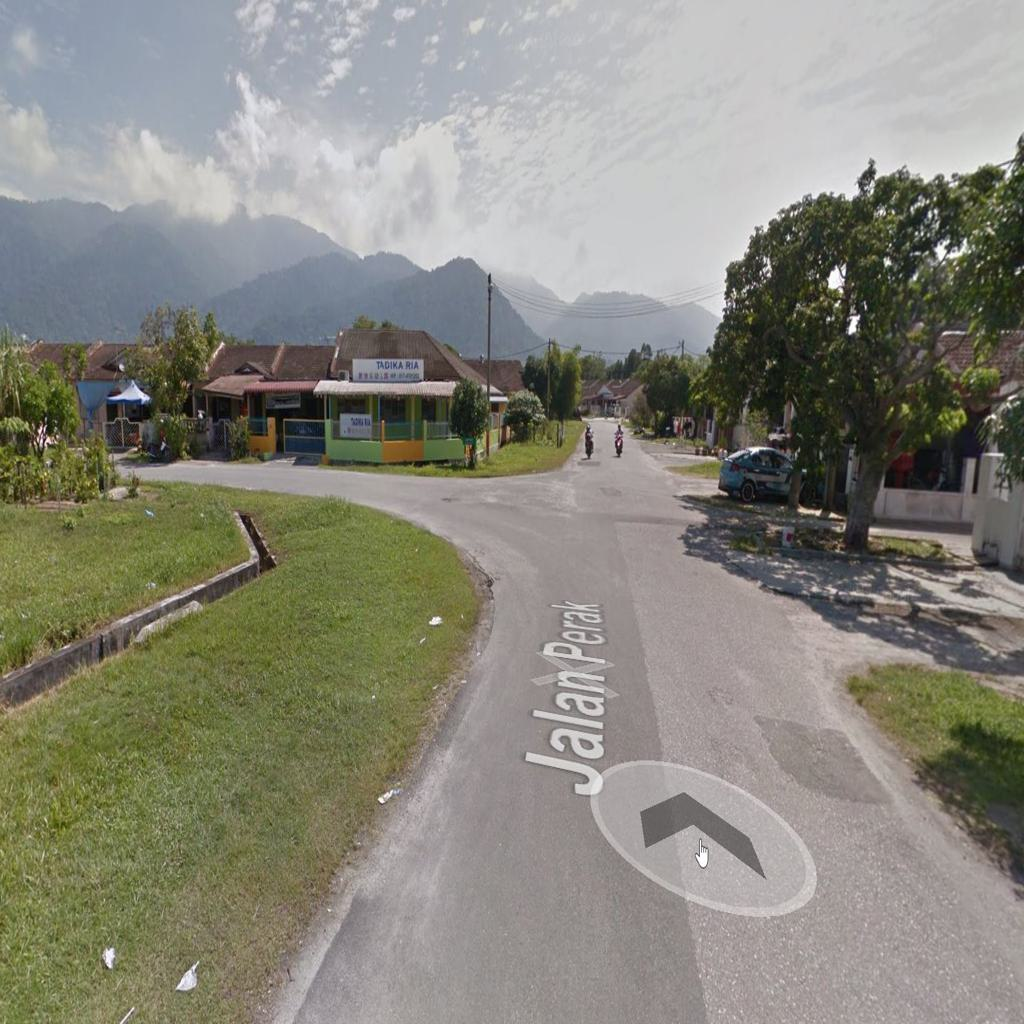Junction: (252, 425, 598, 626)
